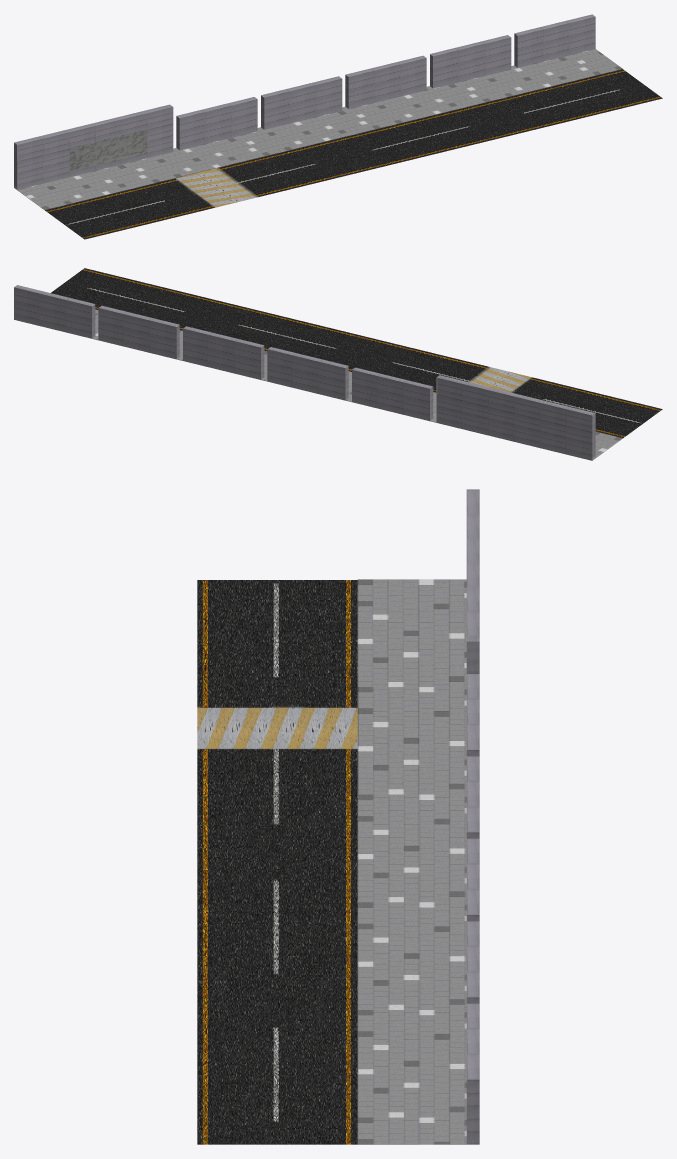
File: flowerwall.fbx
The picture shows the model from 3 angles, top to bottom: view 1: azimuth 30°, elevation 25°; view 2: azimuth 150°, elevation 25°; view 3: azimuth 270°, elevation 25°; orthographic projection. The views are drawn at different scales.
Visible parts, largest first — view 1: Road, Block, main cube, smal cube (5), small cube (2), small cube (3), small cube (1), small cube (4), flower plane; view 2: Road, main cube, small cube (3), small cube (2), smal cube (5), small cube (4), small cube (1), Block; view 3: Road, Block, main cube, smal cube (5), small cube (3), small cube (4), small cube (2), small cube (1).
Boxes of the visible parts, box(x1,y1,x2,y2) form: Road: box(45, 69, 662, 239); Block: box(17, 49, 622, 210); main cube: box(14, 104, 173, 189); smal cube (5): box(514, 14, 595, 67); small cube (2): box(261, 76, 342, 129); small cube (3): box(345, 55, 426, 108); small cube (1): box(176, 97, 257, 150); small cube (4): box(430, 35, 511, 88); flower plane: box(69, 129, 147, 171); Road: box(51, 268, 662, 437); main cube: box(436, 375, 595, 460); small cube (3): box(183, 326, 264, 379); small cube (2): box(267, 347, 348, 400); smal cube (5): box(14, 285, 95, 338); small cube (4): box(98, 305, 179, 359); small cube (1): box(352, 367, 433, 420); Block: box(17, 309, 622, 459); Road: box(197, 580, 357, 1144); Block: box(357, 579, 472, 1144); main cube: box(466, 489, 479, 673); smal cube (5): box(466, 1003, 479, 1144); small cube (3): box(466, 838, 479, 921); small cube (4): box(466, 921, 479, 1003); small cube (2): box(466, 756, 479, 838); small cube (1): box(466, 674, 479, 756).
Bounding box in the file's own units: 10096 × 756 × 2136.
